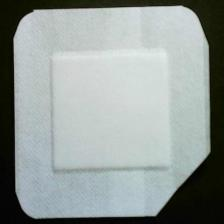Cut: (10, 7, 215, 220)
